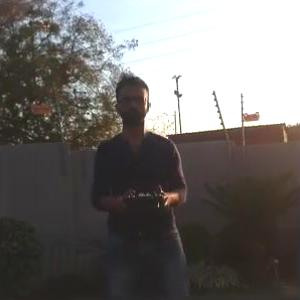follow: (96, 64, 205, 299)
